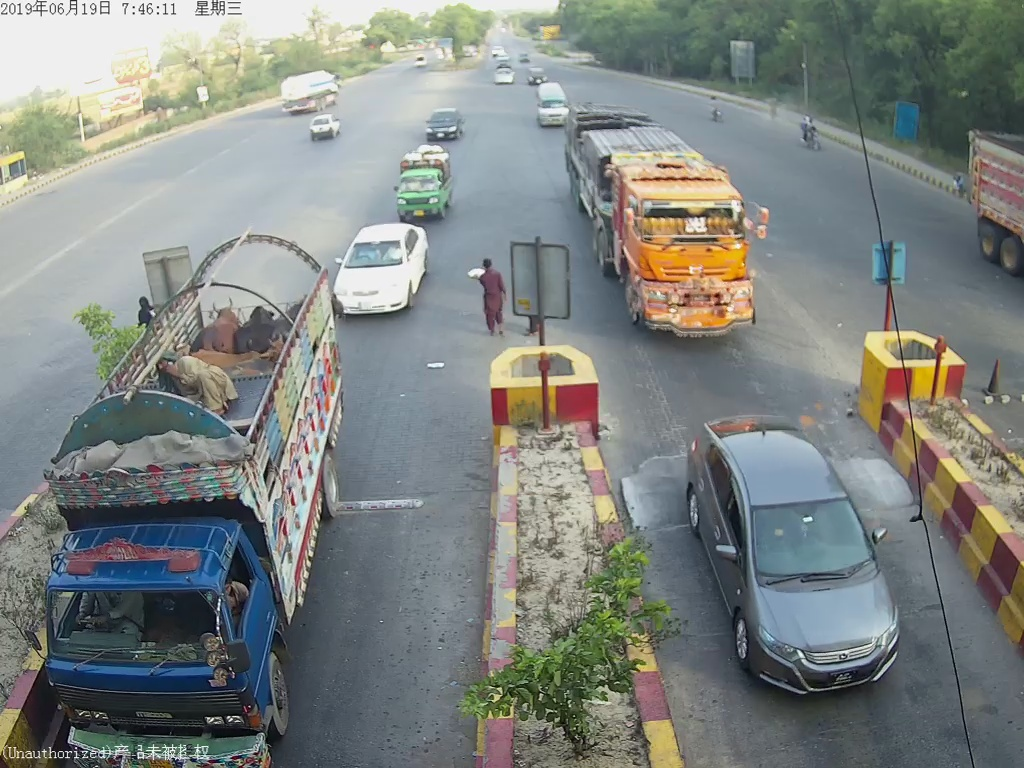Cat-1: (695, 414, 911, 690), (338, 215, 426, 310)
Cat-4: (38, 242, 334, 747)
Cat-5: (577, 108, 777, 346)
